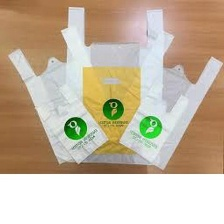plastic_bag: (60, 3, 168, 166), (6, 25, 118, 165), (128, 25, 224, 173), (117, 76, 191, 164), (32, 85, 110, 167)
